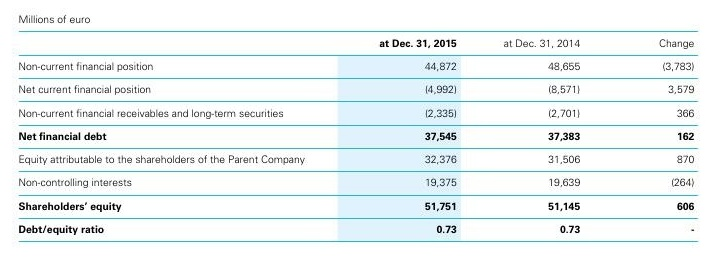table: (0, 0, 725, 259)
